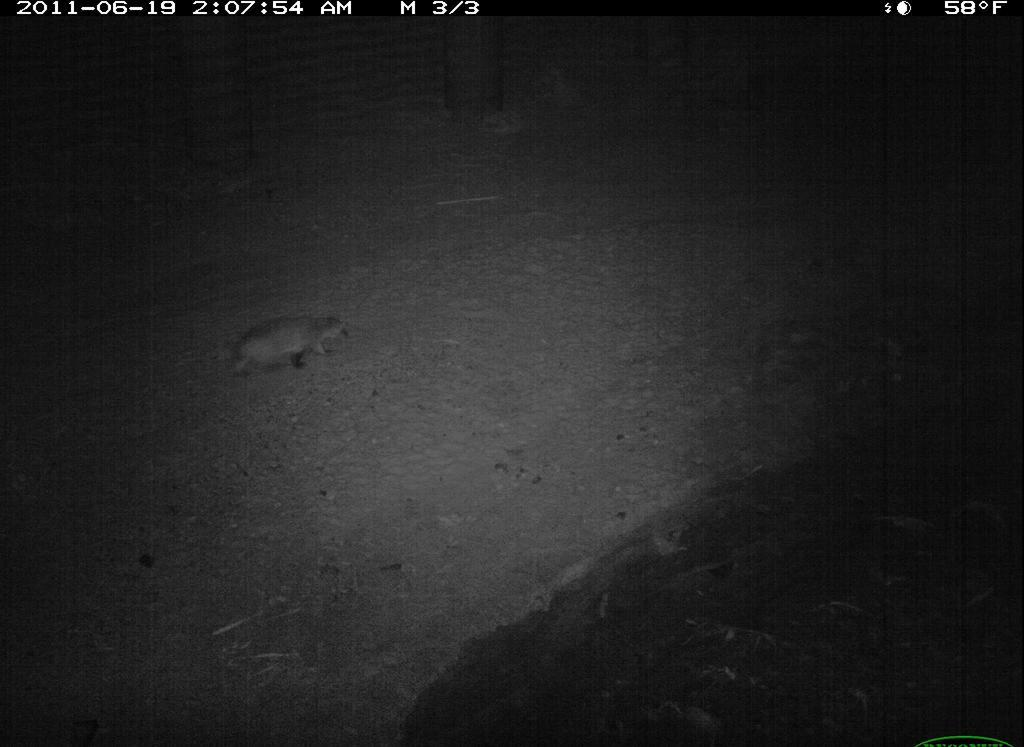badger: (219, 305, 351, 383)
